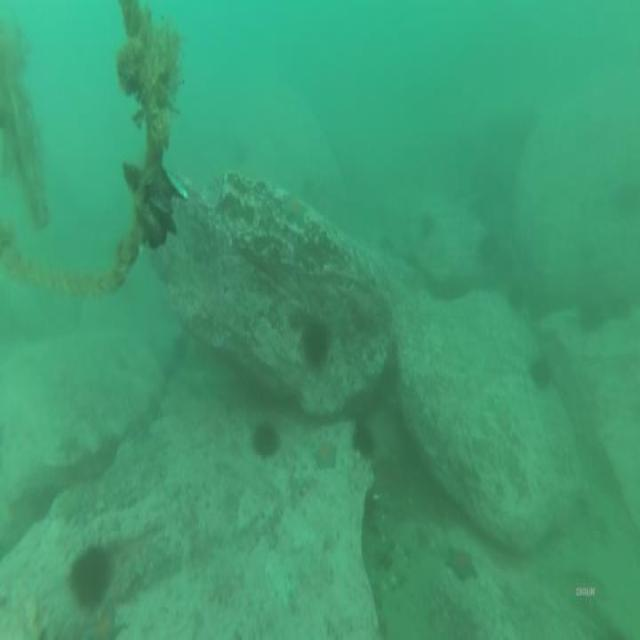echinus: (70, 550, 108, 608), (302, 324, 331, 367), (252, 424, 279, 458), (529, 358, 550, 394), (353, 427, 372, 455)
starfish: (447, 547, 479, 583), (88, 608, 123, 640), (313, 440, 339, 472)
